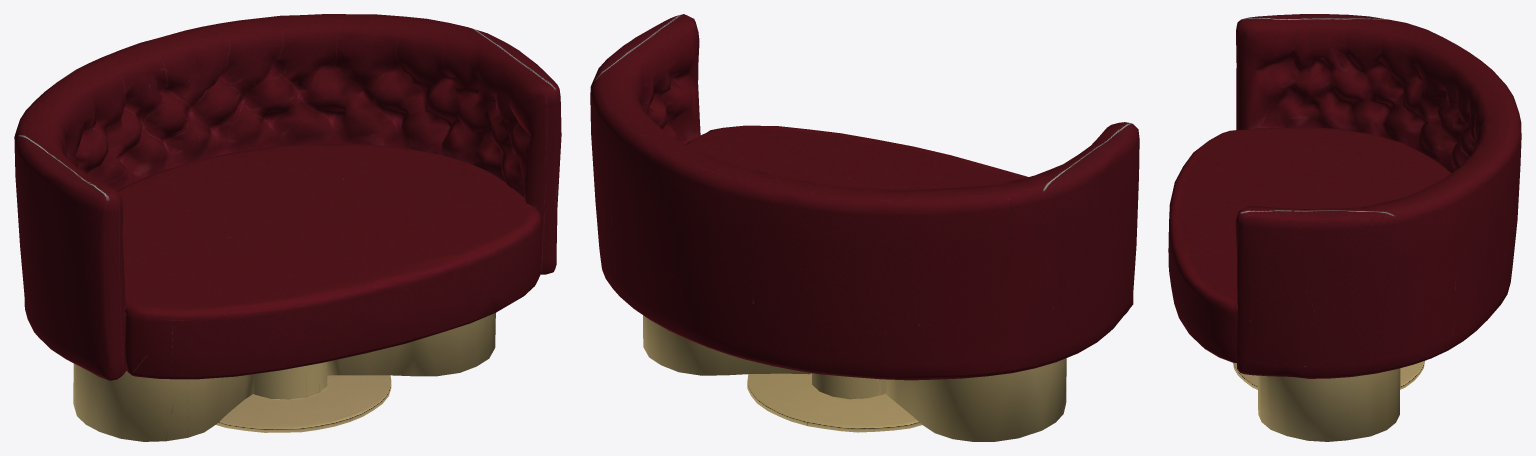
The model's file is burgundy-velvet-banquette.glb.
The picture shows the model from 3 angles, left to right: view 1: azimuth 30°, elevation 25°; view 2: azimuth 150°, elevation 25°; view 3: azimuth 270°, elevation 25°; orthographic projection. The views are drawn at different scales.
Bounding box in the file's own units: 1 × 0.5577 × 0.7177.
1 material, 1 textured.
